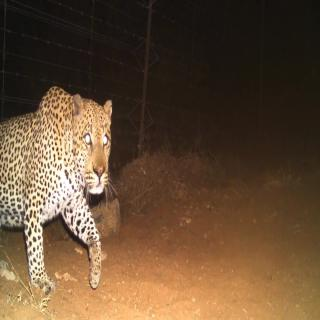Leopard: (0, 85, 114, 294)
